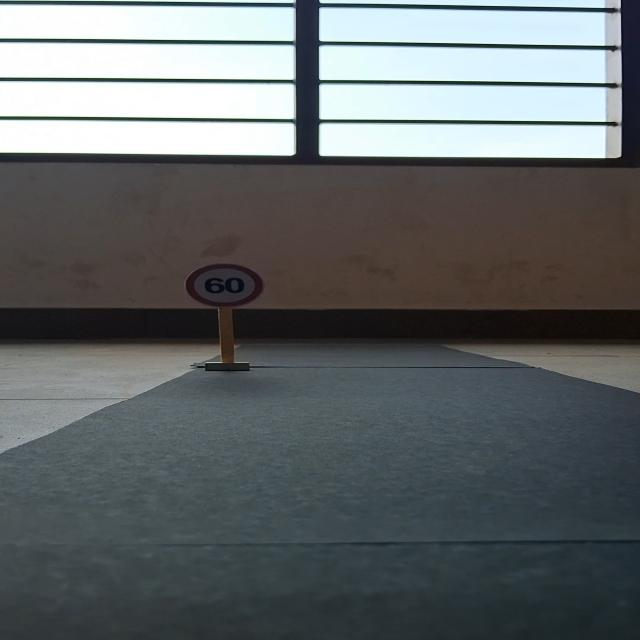Speed60: (183, 262, 266, 308)
